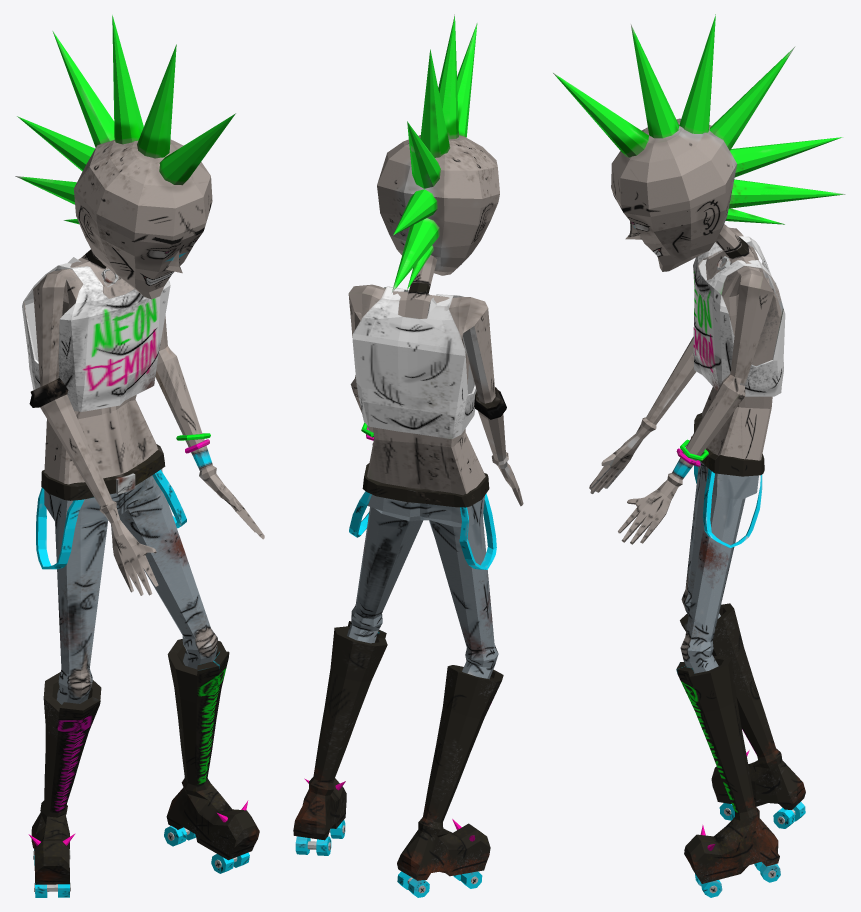
The model's file is punkAnimation_000037.obj.
3 renders of one model, left to right at view 1: azimuth 30°, elevation 25°; view 2: azimuth 150°, elevation 25°; view 3: azimuth 270°, elevation 25°, orthographic. The views are drawn at different scales.
Visible parts, largest first — view 1: Cube.004_Cube.003; view 2: Cube.004_Cube.003; view 3: Cube.004_Cube.003.
Boxes of the visible parts, x1=… form: Cube.004_Cube.003: x1=15, y1=15, x2=264, y2=897; Cube.004_Cube.003: x1=293, y1=14, x2=523, y2=897; Cube.004_Cube.003: x1=553, y1=14, x2=845, y2=897.
Bounding box in the file's own units: 1.91 × 7.4 × 2.4.
